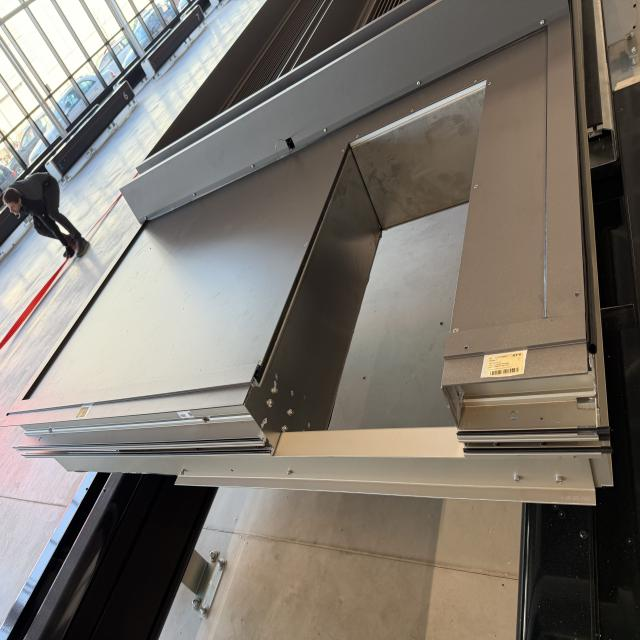vijak_labav: (177, 464, 191, 480)
vijak_nedostaje: (224, 460, 240, 478)
